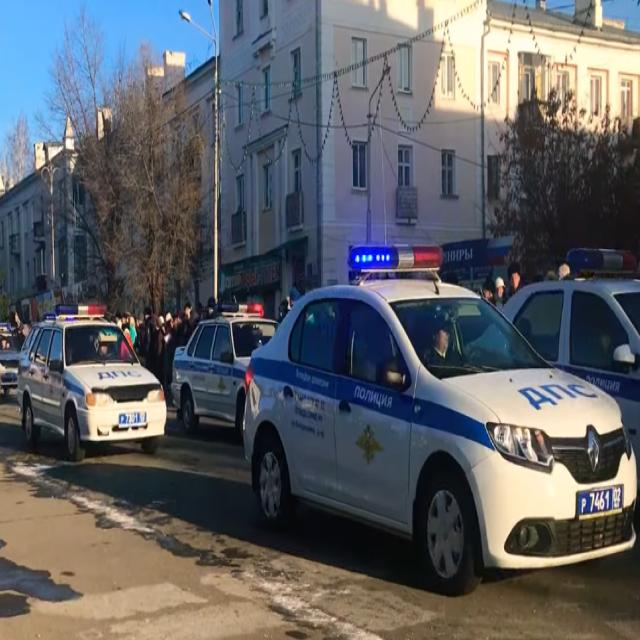police car: (248, 246, 637, 597), (497, 242, 640, 463), (18, 304, 168, 468), (173, 296, 278, 432)
